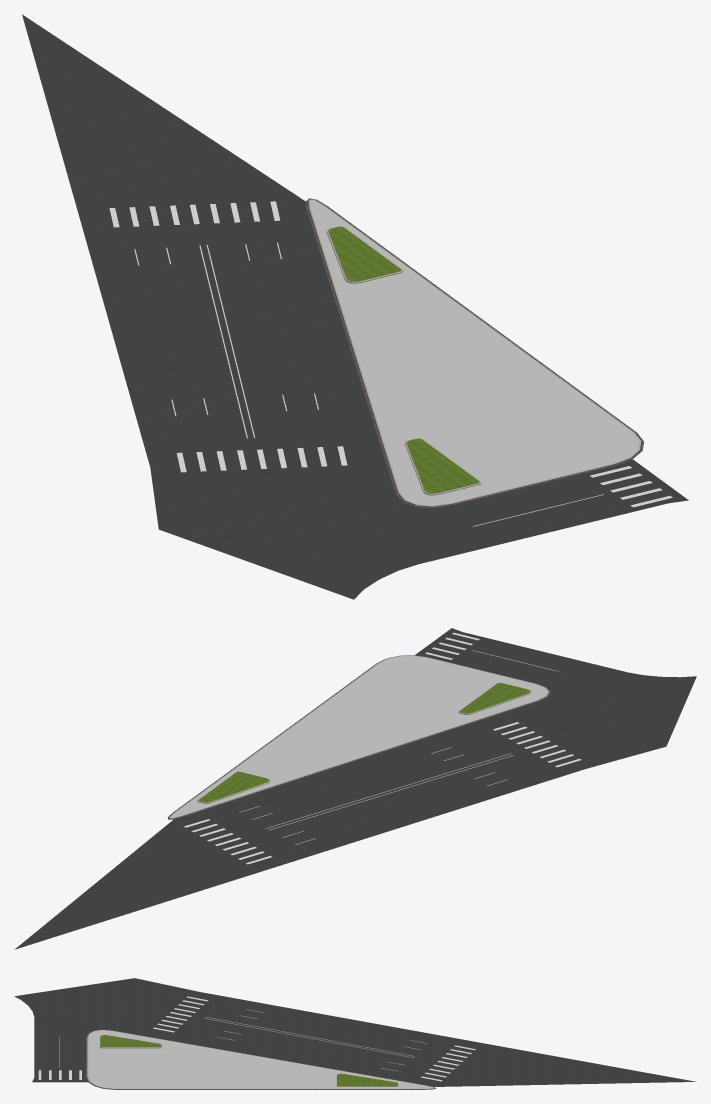
File: Terrain_Area_08.fbx
3 renders of one model, top to bottom at view 1: azimuth 30°, elevation 25°; view 2: azimuth 150°, elevation 25°; view 3: azimuth 270°, elevation 25°, orthographic. The views are drawn at different scales.
Visible parts, largest first — view 1: Road_10, Area_08, Road_Alpha_09; view 2: Road_10, Area_08, Road_Alpha_09; view 3: Road_10, Area_08, Road_Alpha_09.
Part boxes in pixels (left/top/right/bottom): Road_10: left=22, top=14, right=688, bottom=599; Area_08: left=305, top=198, right=643, bottom=508; Road_Alpha_09: left=109, top=201, right=347, bottom=472; Road_10: left=14, top=628, right=696, bottom=949; Area_08: left=167, top=655, right=550, bottom=819; Road_Alpha_09: left=184, top=722, right=581, bottom=864; Road_10: left=14, top=978, right=696, bottom=1086; Area_08: left=86, top=1029, right=436, bottom=1089; Road_Alpha_09: left=153, top=996, right=475, bottom=1081.
Bounding box in the file's own units: 4674 × 17.21 × 12069.
